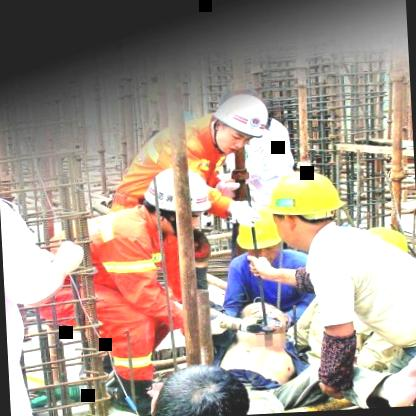helmet: (258, 168, 349, 249), (137, 166, 209, 235), (202, 86, 276, 153), (238, 209, 282, 264)
